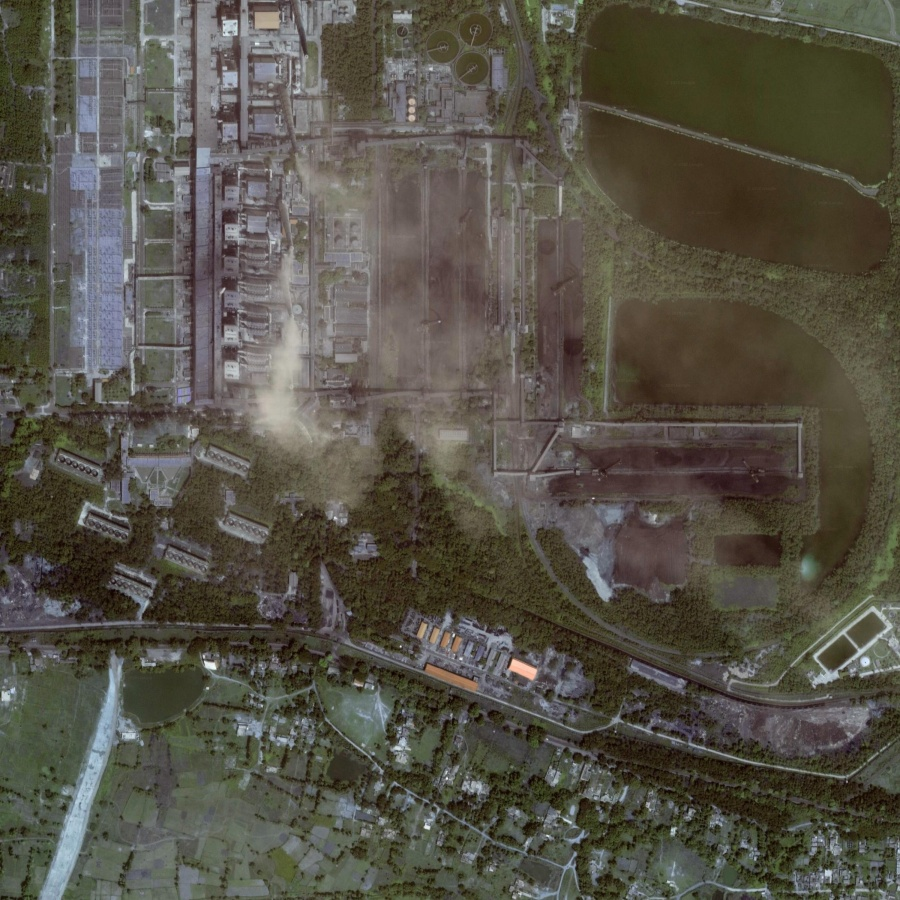PowerPlant: (265, 138, 596, 459), (529, 421, 813, 607)
